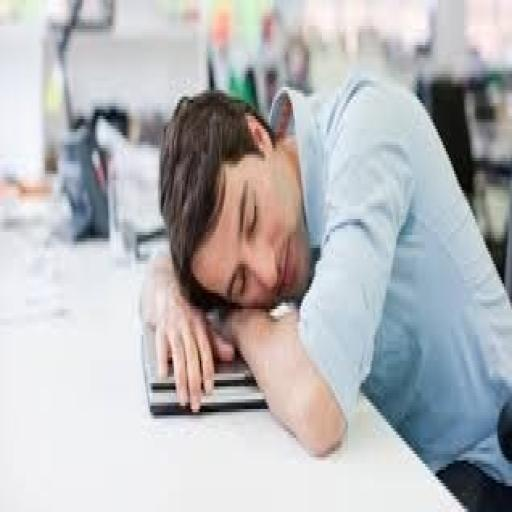sleeping: (144, 68, 510, 502)
